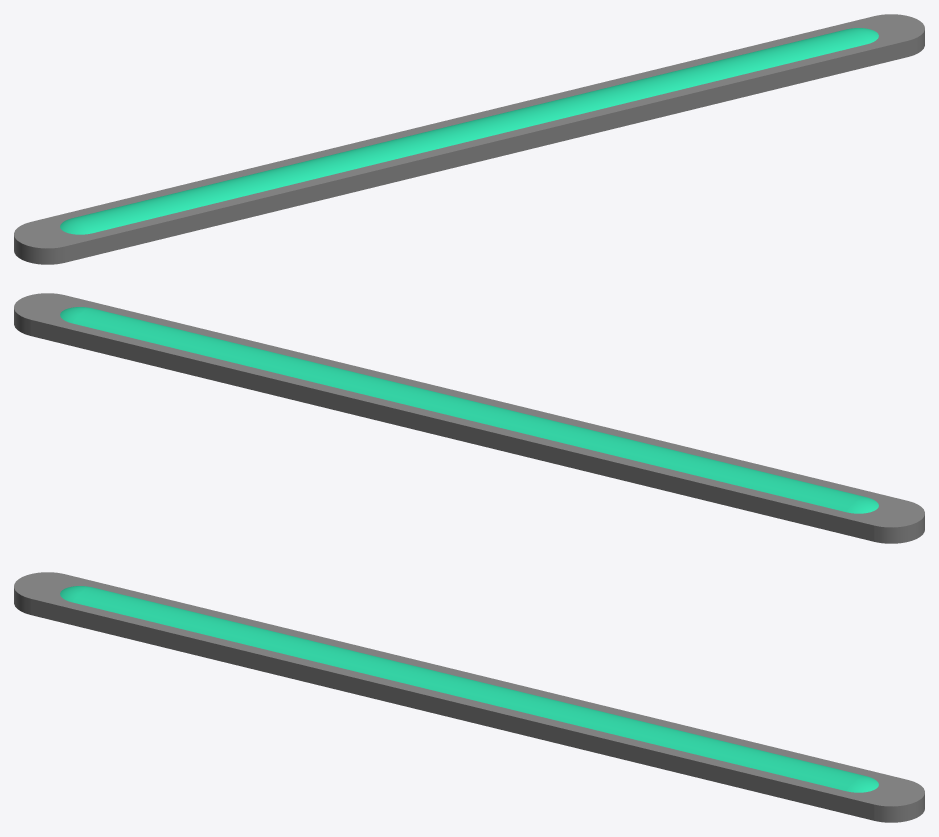
3 views of the same model, one above another, from view 1: azimuth 30°, elevation 25°; view 2: azimuth 150°, elevation 25°; view 3: azimuth 330°, elevation 25° (orthographic).
Visible parts, largest first — view 1: Cube, Cylinder.001; view 2: Cube, Cylinder.001; view 3: Cube, Cylinder.001.
Part boxes in pixels (left/top/right/bottom): Cube: left=14, top=14, right=924, bottom=264; Cylinder.001: left=60, top=28, right=878, bottom=234; Cube: left=14, top=293, right=924, bottom=543; Cylinder.001: left=60, top=307, right=878, bottom=513; Cube: left=14, top=572, right=924, bottom=822; Cylinder.001: left=60, top=586, right=878, bottom=792.
Size of the model in its own units: 6.95 by 0.1488 by 0.45.
